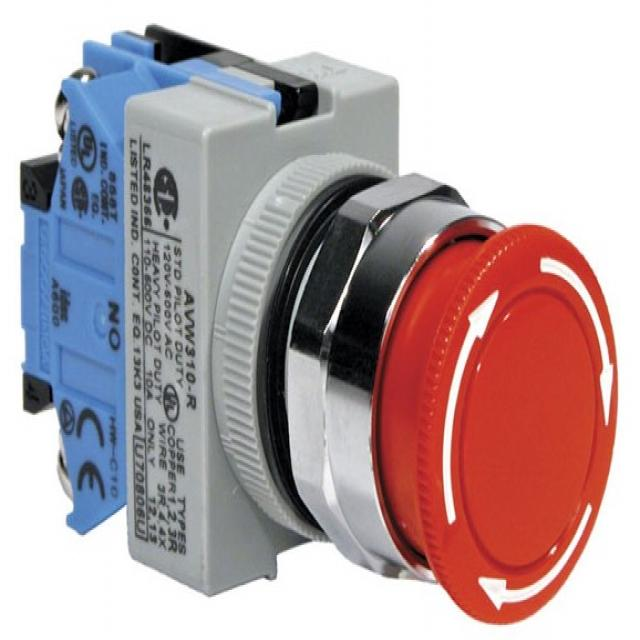safety switch: (214, 154, 621, 626)
